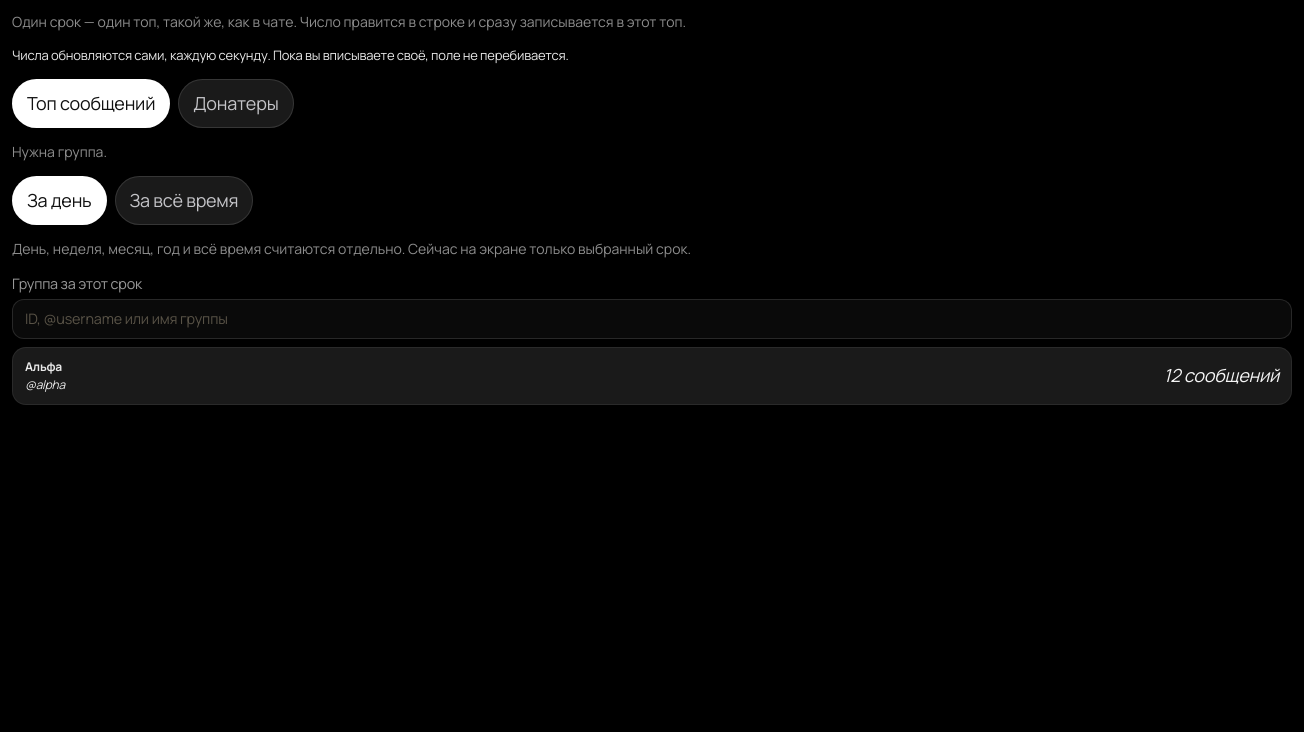
Test case: StatDesk › shows groups for the selected period and a single board after a group is chosen
The image size is (1304, 732).
Expected: the text "12 сообщений" is shown, top-left (1164, 362), bottom-right (1279, 390)
Click the button "Альфа @alpha 12 сообщений": {"x": 44, "y": 366} top-left (12, 347), bottom-right (1292, 405)
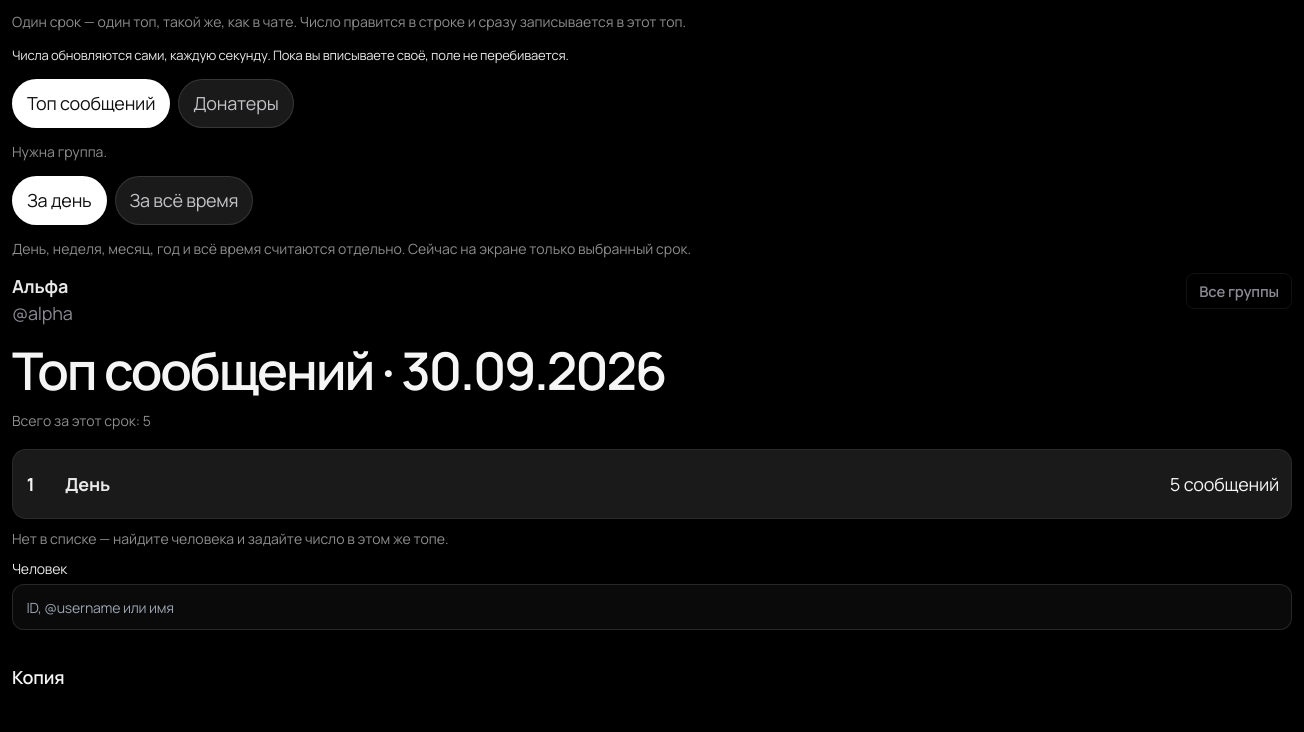
Expected: the text "День" is shown, top-left (65, 472), bottom-right (110, 496)
Expected: the text "5 сообщений" is shown, top-left (1169, 471), bottom-right (1279, 498)
Click the tab "За всё время": {"x": 184, "y": 200} top-left (114, 176), bottom-right (253, 225)
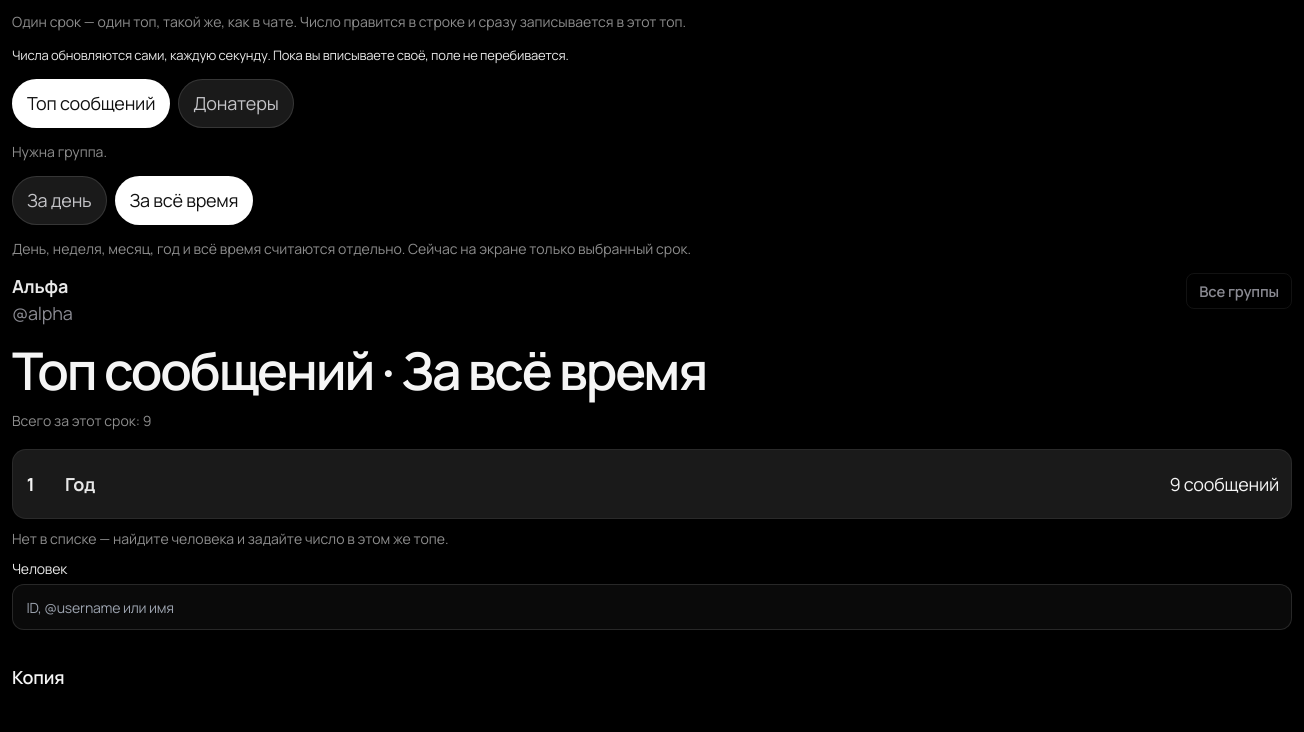
Expected: the text "Год" is shown, top-left (65, 472), bottom-right (95, 496)
Expected: the text "9 сообщений" is shown, top-left (1169, 471), bottom-right (1279, 498)
